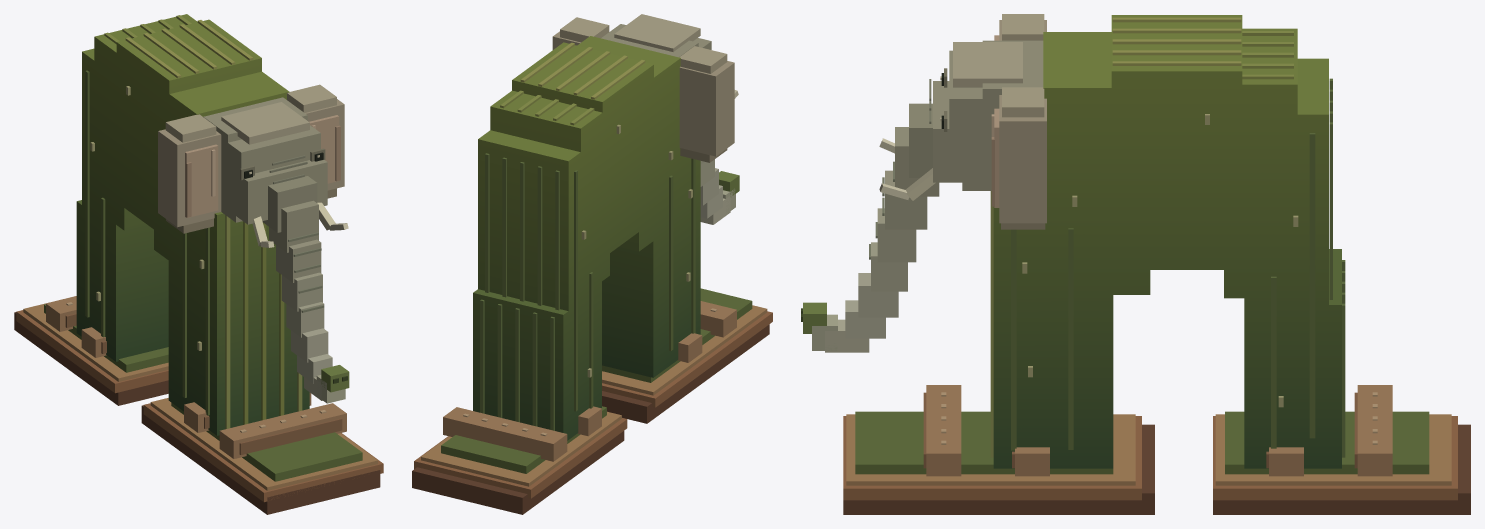
The model's file is Lirili_Voxel_Review.glb.
The picture shows the model from 3 angles, left to right: view 1: azimuth 30°, elevation 25°; view 2: azimuth 150°, elevation 25°; view 3: azimuth 270°, elevation 25°; orthographic projection. The views are drawn at different scales.
Parts seen in each view (by area): view 1: Lirili_Voxel_Review_SingleMesh; view 2: Lirili_Voxel_Review_SingleMesh; view 3: Lirili_Voxel_Review_SingleMesh.
Boxes of the visible parts, x1=… form: Lirili_Voxel_Review_SingleMesh: x1=14, y1=14, x2=383, y2=514; Lirili_Voxel_Review_SingleMesh: x1=412, y1=14, x2=772, y2=514; Lirili_Voxel_Review_SingleMesh: x1=801, y1=14, x2=1470, y2=514.
Bounding box in the file's own units: 1.3 × 2.64 × 3.63.
